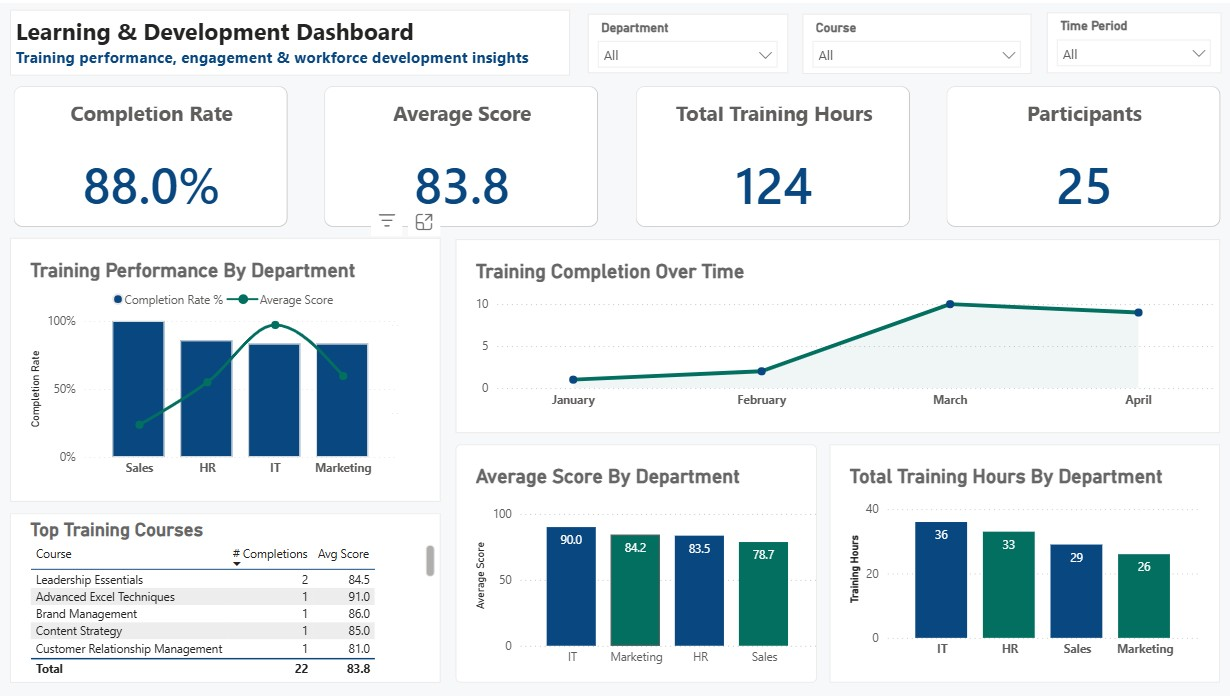

Layout of this report page (visuals, bound fields, positions):
{"tool":"powerbi","page":{"name":"Page 1","canvas":[1280,720],"ordinal":0},"visuals":[{"type":"cardVisual","title":"Completion Rate","fields":{"Data":["Training_data.Completion Rate"]},"box":[4,74.5,308.1,170.6],"z":0},{"type":"cardVisual","title":"Completion Rate","fields":{"Data":["Training_data.Average Score"]},"box":[326.3,74.5,308.1,170.6],"z":1000},{"type":"cardVisual","title":"Completion Rate","fields":{"Data":["Training_data.Total Training Hours"]},"box":[648.7,74.5,308.1,170.6],"z":2000},{"type":"lineClusteredColumnComboChart","title":"Average Score By Department","fields":{"Category":["Training_data.Department"],"Y":["Training_data.Average Score"]},"box":[473.8,457.2,374.4,246.8],"z":3000},{"type":"lineChart","title":"Training Completion Over Time","fields":{"Category":["Training_data.Completion_Date.Variation.Date Hierarchy.Month"],"Y":["CountNonNull(Training_data.Employee_ID)"]},"box":[473.8,245.2,791.8,200.4],"z":4000},{"type":"slicer","fields":{"Values":["Training_data.Department"]},"box":[610.7,11.6,207.1,61.3],"z":5000},{"type":"slicer","fields":{"Values":["Training_data.Course_Name"]},"box":[833.5,10.9,236.9,62],"z":6000},{"type":"slicer","title":"Last12 Months","fields":{"Values":["Training_data.Completion_Date.Variation.Date Hierarchy.Month"]},"box":[1086.1,9.9,180.6,62.9],"z":7000},{"type":"lineStackedColumnComboChart","title":"Training Performance By Department","fields":{"Category":["Training_data.Department"],"Y":["Training_data.Completion Rate %"],"Y2":["Training_data.Average Score"]},"box":[13.3,243.5,445.6,273.3],"z":8000},{"type":"clusteredColumnChart","title":"Total Training Hours By Department","fields":{"Category":["Training_data.Department"],"Y":["Sum(Training_data.Training_Hours)"]},"box":[861.4,457.2,404.2,246.8],"z":9000},{"type":"tableEx","title":"Top Training Courses","fields":{"Values":["Training_data.Course_Name","Training_data.Completed Trainings","Training_data.Average Score"]},"box":[13.3,528.4,446,175.6],"z":10000},{"type":"cardVisual","title":"Completion Rate","fields":{"Data":["Training_data.Participants"]},"box":[971,74.5,308.1,170.6],"z":11000},{"type":"textbox","box":[13.3,6.6,579.8,67.9],"z":12000}]}

Visuals, with their boxes in screenshot pixels (x1, y1, x2, y2), scaled from the page's 1280x720 canvas onto the 1230x696 screenshot:
"Completion Rate" cardVisual: [left=4, top=72, right=300, bottom=237]
"Completion Rate" cardVisual: [left=314, top=72, right=610, bottom=237]
"Completion Rate" cardVisual: [left=623, top=72, right=919, bottom=237]
"Average Score By Department" lineClusteredColumnComboChart: [left=455, top=442, right=815, bottom=681]
"Training Completion Over Time" lineChart: [left=455, top=237, right=1216, bottom=431]
slicer - Training_data.Department: [left=587, top=11, right=786, bottom=70]
slicer - Training_data.Course_Name: [left=801, top=11, right=1029, bottom=70]
"Last12 Months" slicer: [left=1044, top=10, right=1217, bottom=70]
"Training Performance By Department" lineStackedColumnComboChart: [left=13, top=235, right=441, bottom=500]
"Total Training Hours By Department" clusteredColumnChart: [left=828, top=442, right=1216, bottom=681]
"Top Training Courses" tableEx: [left=13, top=511, right=441, bottom=681]
"Completion Rate" cardVisual: [left=933, top=72, right=1229, bottom=237]
textbox: [left=13, top=6, right=570, bottom=72]
